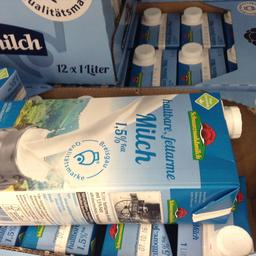milk: (0, 98, 247, 228)
